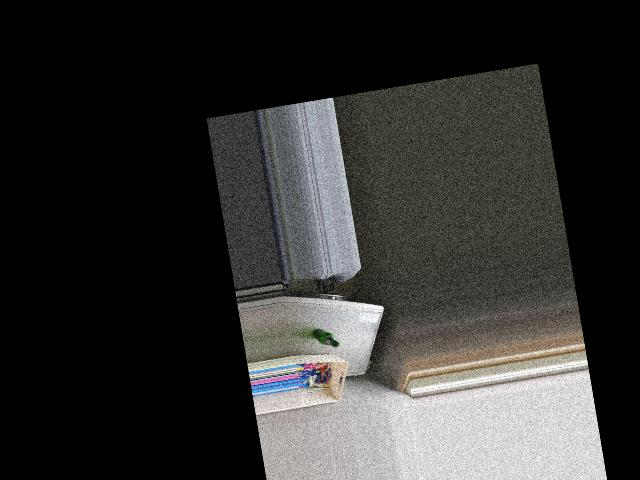beer: (312, 325, 339, 350)
